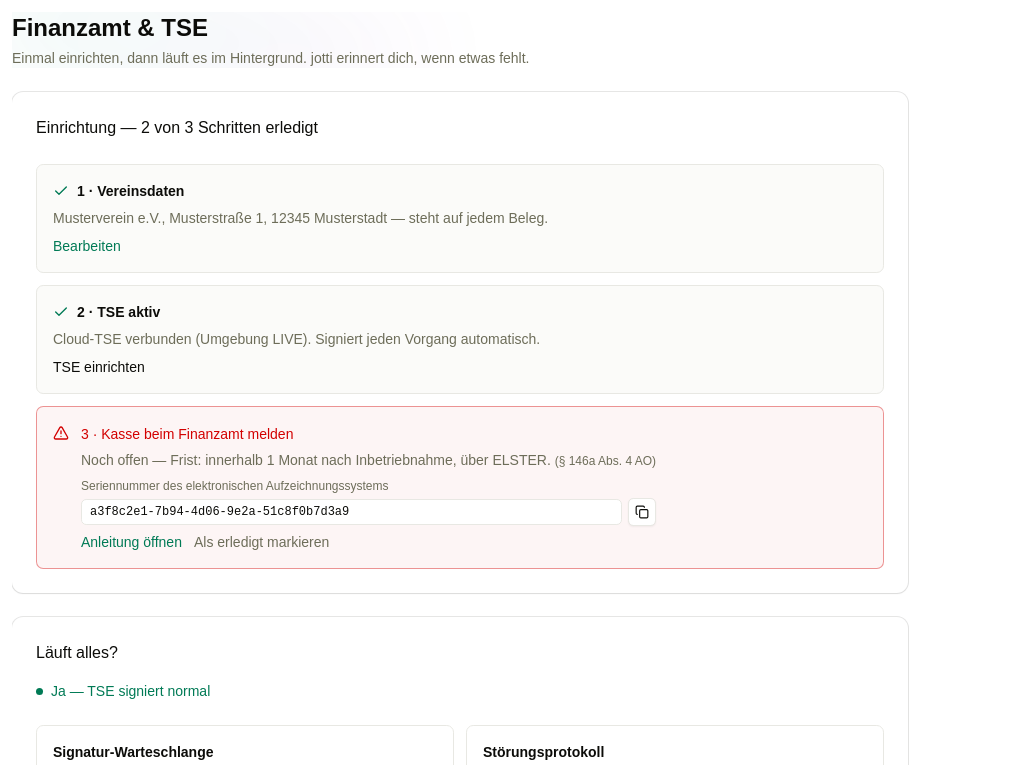
Test: FinanzamtPage — Einrichtungs-Checkliste › ruft setElsterMeldung beim Abhaken der Kassenmeldung
Click the button "Als erledigt markieren" at {"x": 262, "y": 542}, box left=194, top=532, right=329, bottom=552
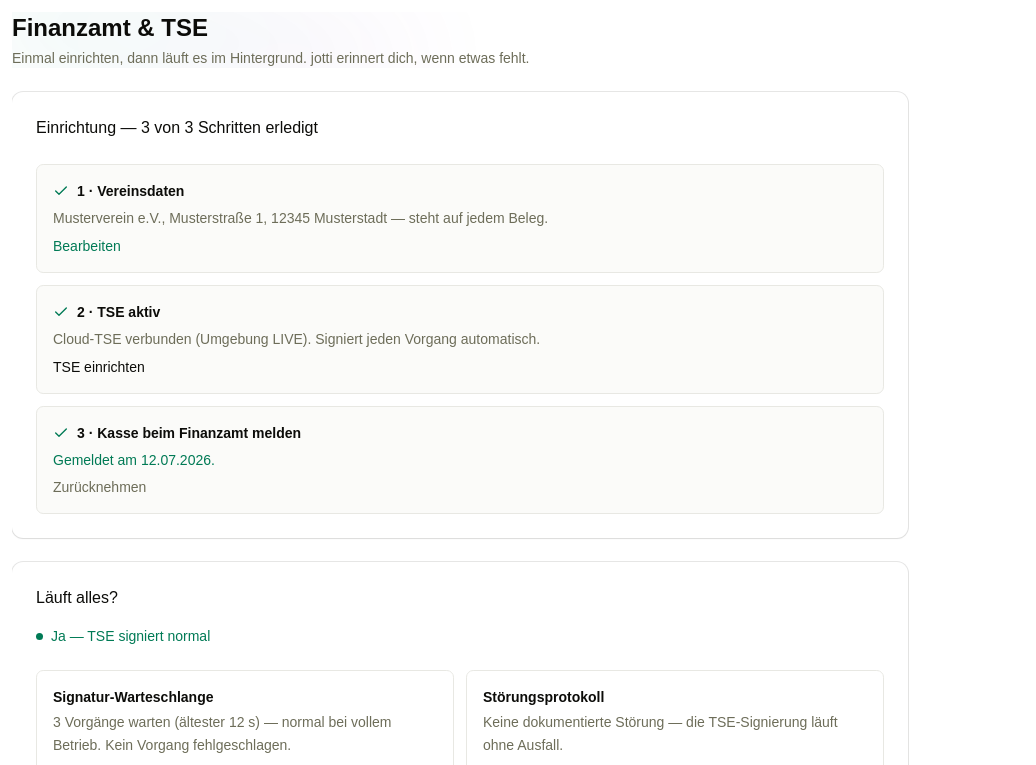
expect the text "Einrichtung — 3 von 3 Schritten erledigt" is shown: met, box left=36, top=119, right=318, bottom=136
